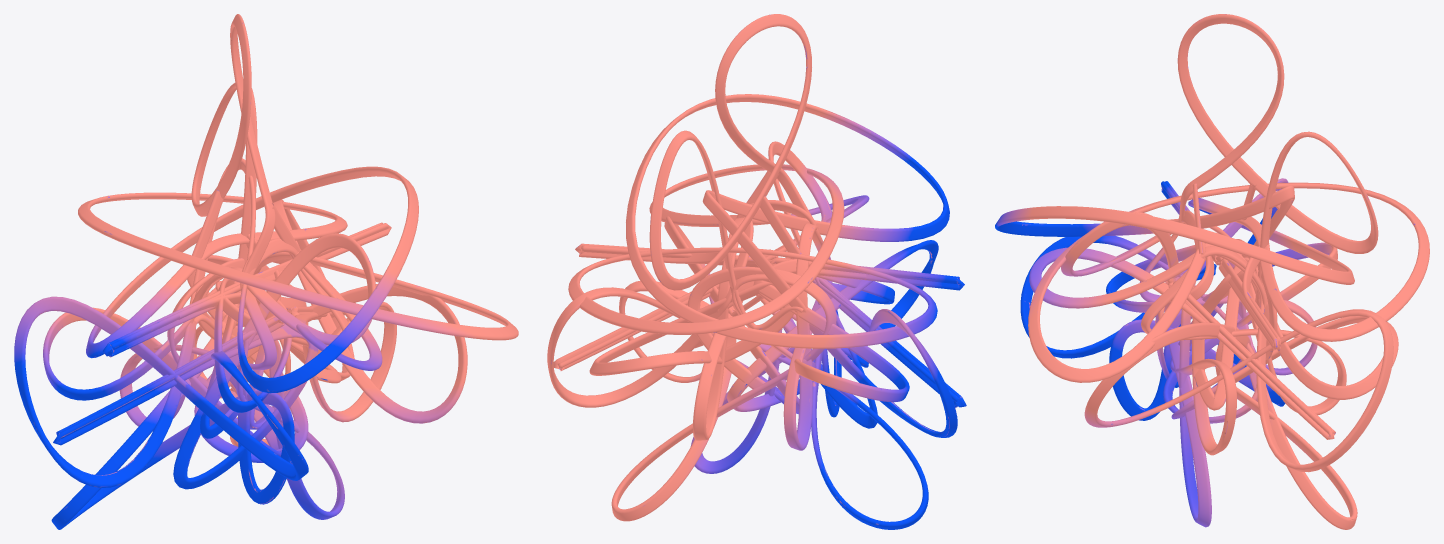
Rendered from python.glb.
3 views of the same model, side by side, from view 1: azimuth 30°, elevation 25°; view 2: azimuth 150°, elevation 25°; view 3: azimuth 270°, elevation 25° (orthographic). The views are drawn at different scales.
Parts seen in each view (by area): view 1: Plane.001_0; view 2: Plane.001_0; view 3: Plane.001_0.
Boxes of the visible parts, left/top/right/bottom form: Plane.001_0: left=14, top=14, right=518, bottom=529; Plane.001_0: left=547, top=14, right=966, bottom=529; Plane.001_0: left=995, top=14, right=1429, bottom=529.
Bounding box in the file's own units: 8.19 × 9.98 × 8.24.
Materials: 1 (1 with a texture image).
